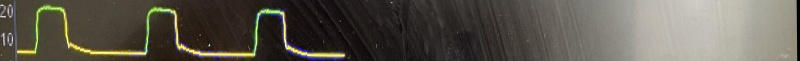normal_pressure: (16, 1, 348, 61)
